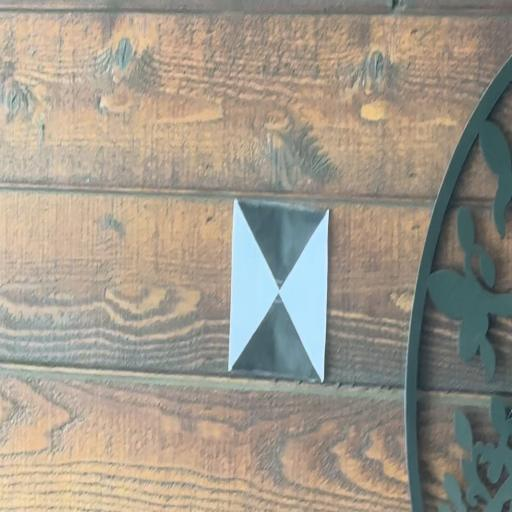target: (228, 199, 329, 379)
